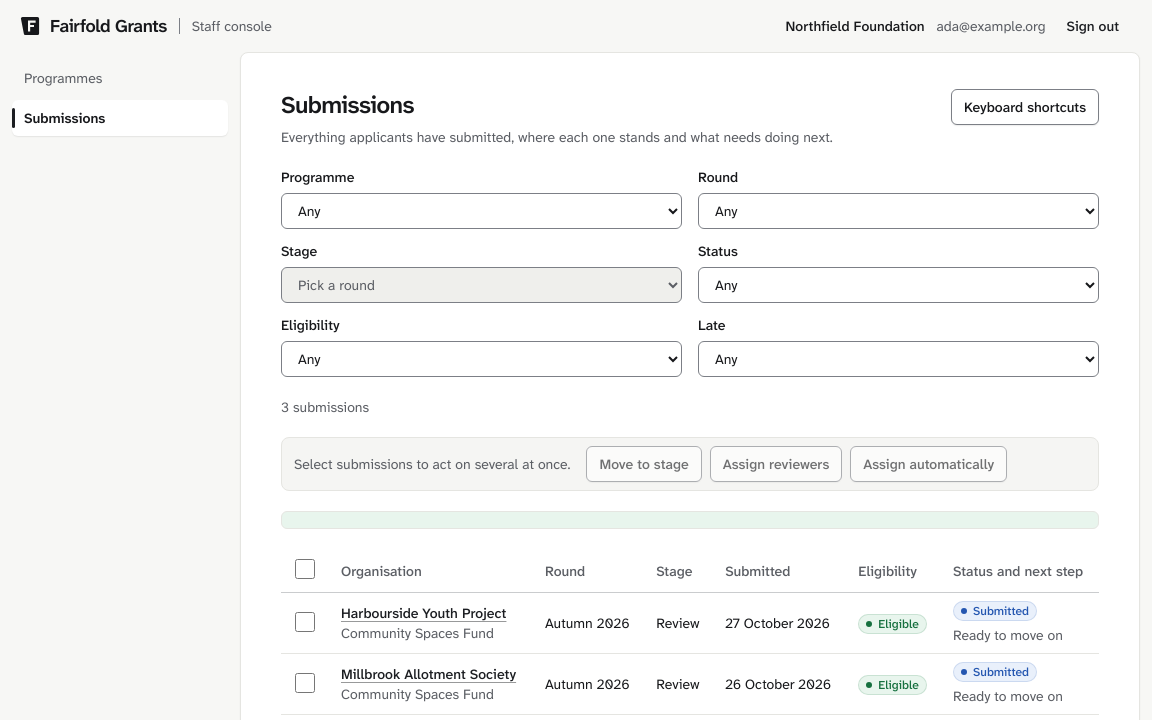
Test: assigning from the list › says submissions in different stages are assigned stage by stage
Click the checkbox named "Select Harbourside Youth Project" next to "Harbourside Youth Project" at (305, 622), box [295, 612, 315, 632]
(page scrolled)
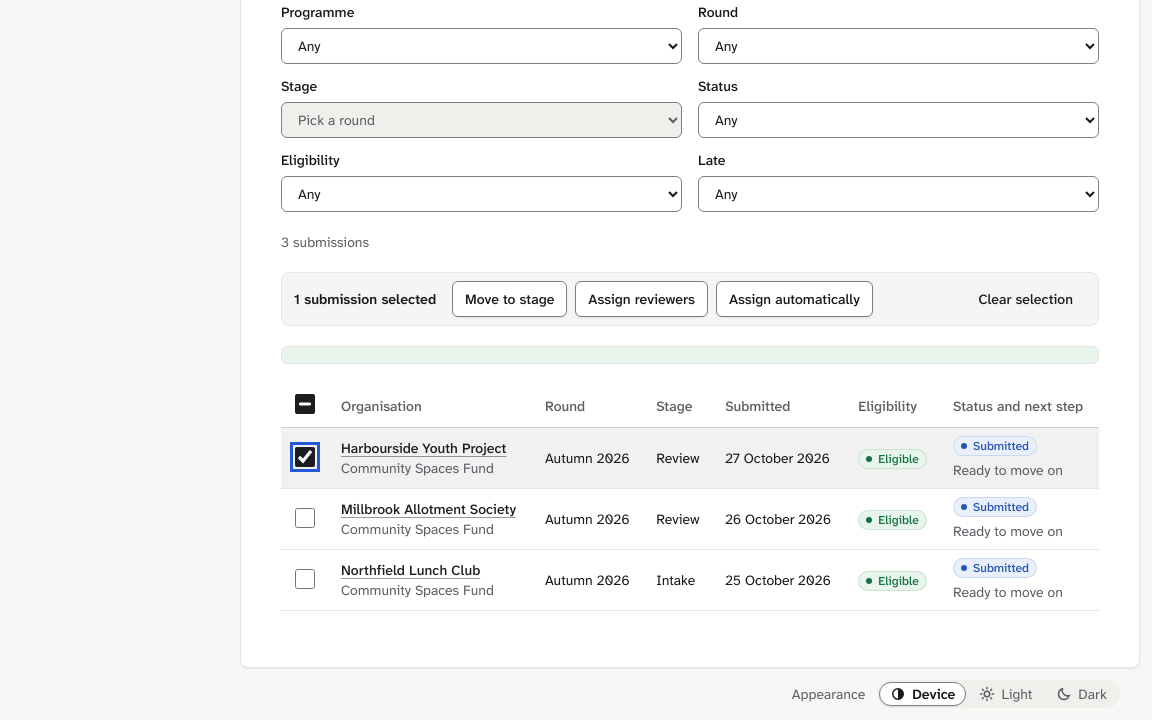
Click the checkbox named "Select Northfield Lunch Club" next to "Northfield Lunch Club" at (305, 578), box [295, 568, 315, 588]
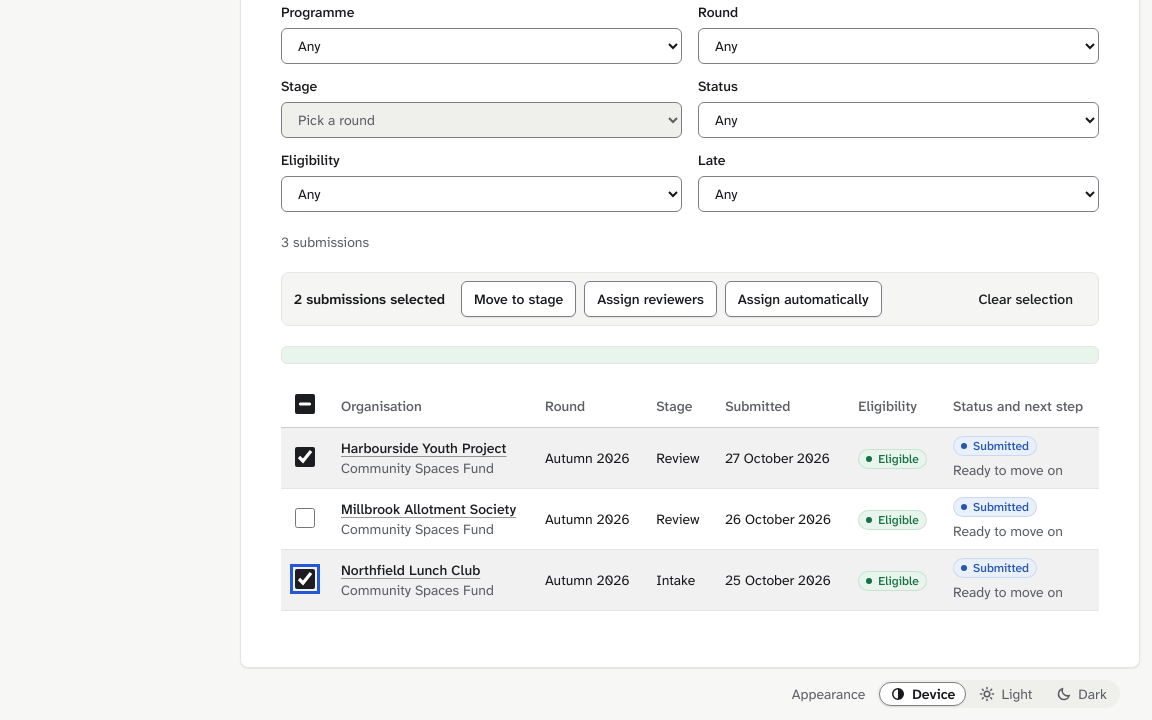
Click the button "Assign reviewers" at (651, 299), box [584, 281, 717, 317]
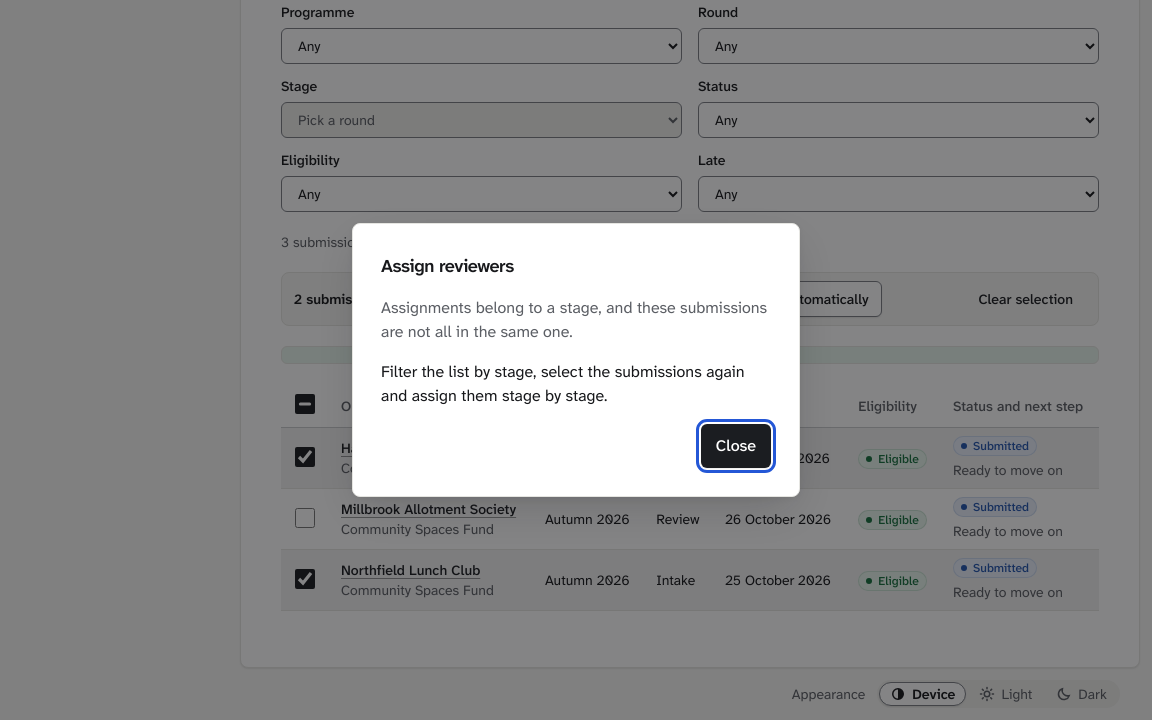
Expected: the text "not all in the same one" is shown, [381, 297, 767, 342]
Expected: the text "Filter the list by stage" is shown, [381, 361, 745, 406]
Click the button "Close" at (736, 446), box [701, 424, 771, 468]
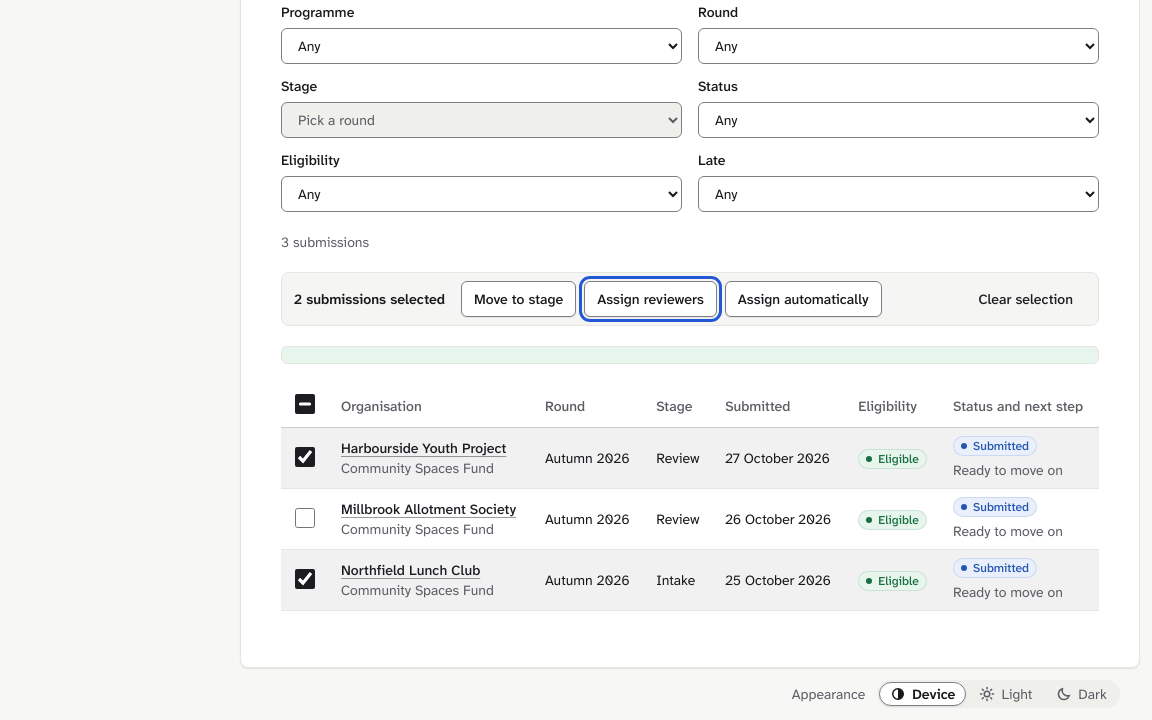
Expected: the dialog is gone
